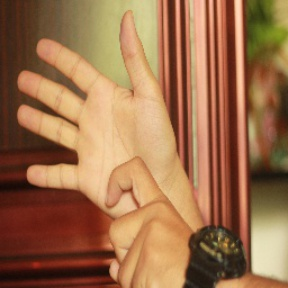R: (12, 5, 190, 281)
